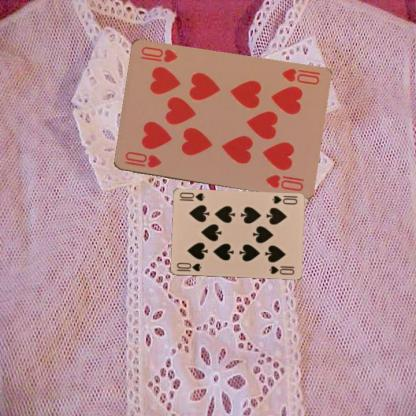10h: (121, 149, 162, 169), (279, 66, 320, 86)
10s: (269, 193, 298, 206), (174, 260, 202, 273)
